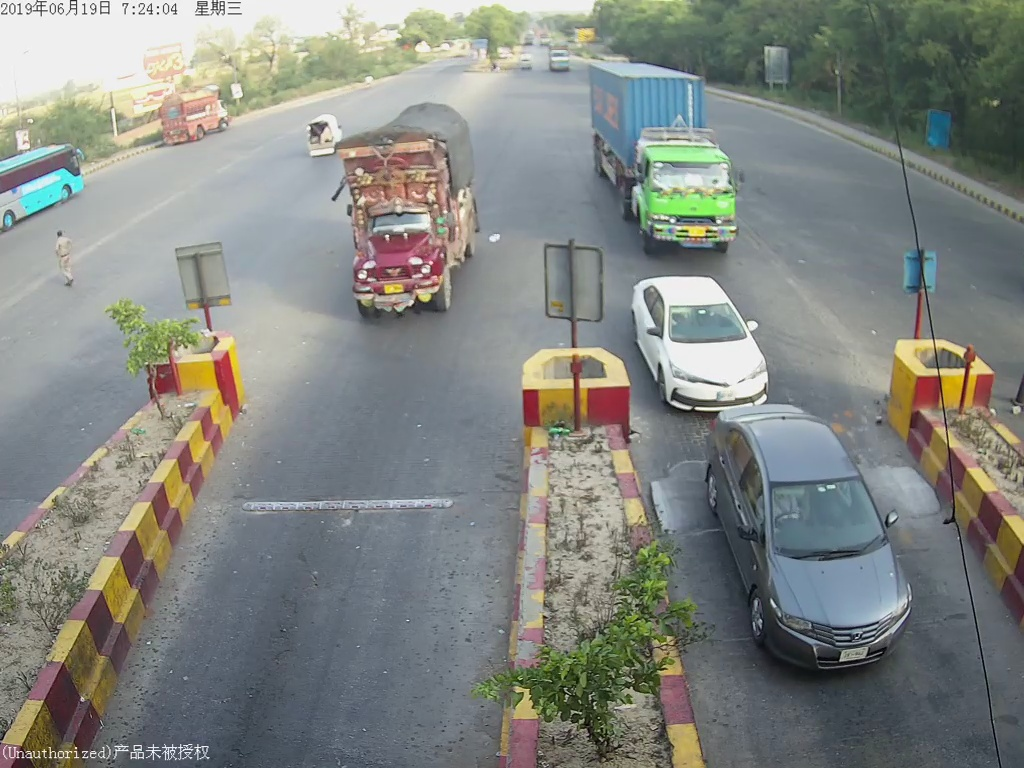Cat-1: (700, 416, 933, 678), (627, 278, 783, 409)
Cat-4: (332, 95, 499, 322)
Cat-5: (591, 56, 762, 247)
